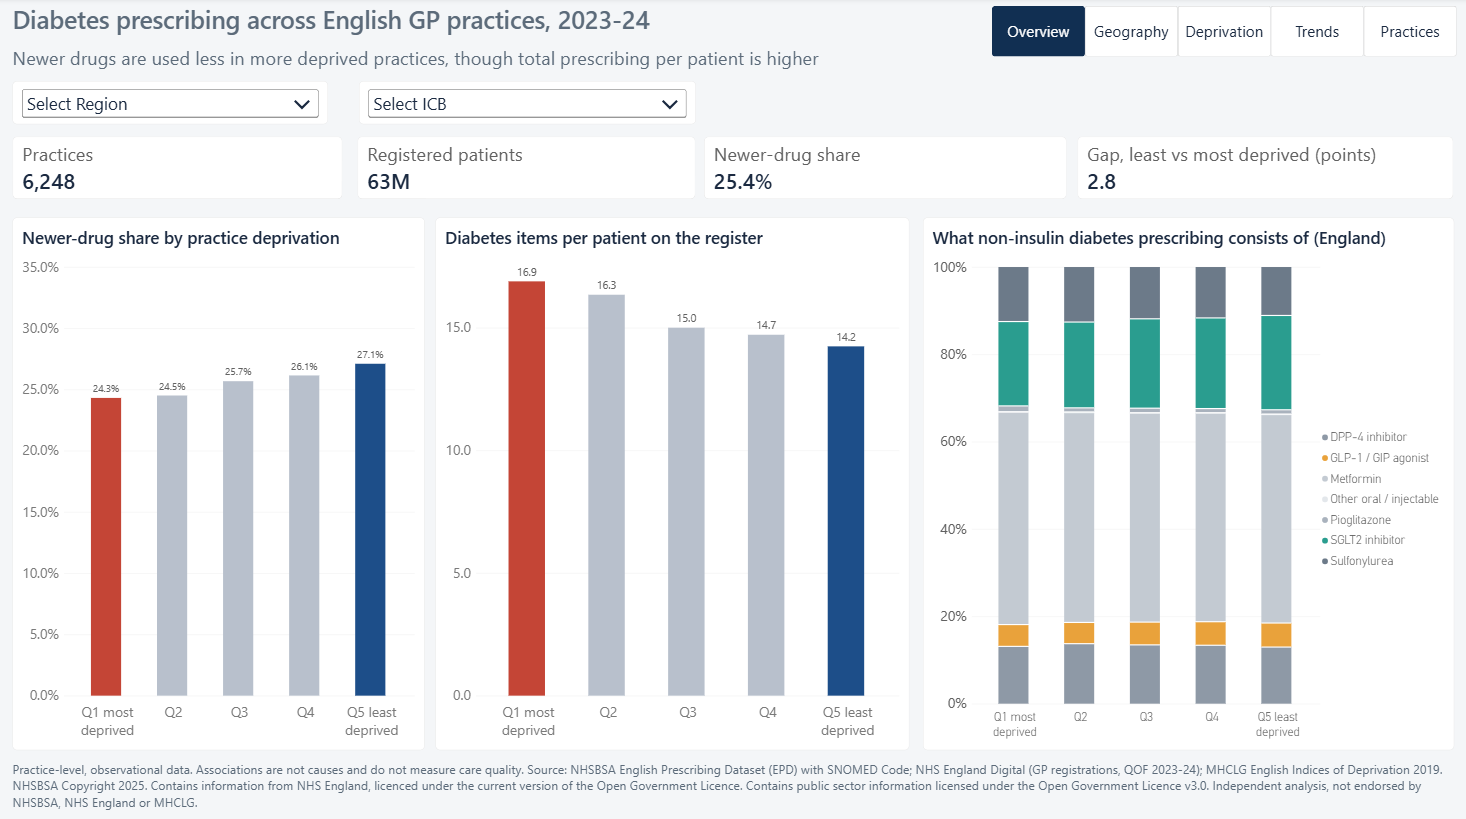

The page's visual inventory and layout, read from the dashboard file:
{"tool":"powerbi","page":{"name":"Overview","canvas":[2560,1440],"ordinal":0},"visuals":[{"type":"listSlicer","fields":{"Values":["dashboard_icb.region"]},"box":[23.3,145.5,549.8,75.6],"z":0},{"type":"listSlicer","fields":{"Values":["dashboard_icb.icb_short"]},"box":[628.4,145.5,587.6,75.6],"z":1000},{"type":"pageNavigator","box":[1731.2,15.7,813,88.9],"z":2000},{"type":"textbox","box":[23.3,11.6,1204.4,72.7],"z":3000},{"type":"textbox","box":[23.3,84.4,1509.8,61.1],"z":4000},{"type":"textbox","box":[23.3,1332.4,2519.3,87.3],"z":5000},{"type":"cardVisual","fields":{"Data":["_Measures.Patients"]},"box":[624.1,244.5,589.6,109.3],"z":6000},{"type":"cardVisual","fields":{"Data":["_Measures.Newer Share"]},"box":[1228.1,244.5,632.8,109.3],"z":7000},{"type":"cardVisual","fields":{"Data":["_Measures.Deprivation Gap (pp)"]},"box":[1881.1,244.5,655.8,109.3],"z":8000},{"type":"cardVisual","fields":{"Data":["_Measures.Practices"]},"box":[23,244.5,575.2,109.3],"z":9000},{"type":"clusteredColumnChart","title":"Newer-drug share by practice deprivation","fields":{"Category":["dashboard_practice.imd_group"],"Y":["_Measures.Newer Share"]},"box":[23.3,384,718.4,928.9],"z":10000},{"type":"clusteredColumnChart","title":"Diabetes items per patient on the register","fields":{"Category":["dashboard_practice.imd_group"],"Y":["_Measures.Items per Register Patient"]},"box":[762.2,384,826.3,928.9],"z":11000},{"type":"hundredPercentStackedColumnChart","title":"What non-insulin diabetes prescribing consists of (England)","fields":{"Category":["dashboard_class.imd_group"],"Series":["dashboard_class.drug_class"],"Y":["Sum(dashboard_class.items)"]},"box":[1611.6,384,926.3,928.9],"z":12000}]}

Visuals, with their boxes in screenshot pixels (x1, y1, x2, y2), scaled from the page's 2560x1440 canvas onto the 1466x819 screenshot:
listSlicer - dashboard_icb.region: <box>13,83,328,126</box>
listSlicer - dashboard_icb.icb_short: <box>360,83,696,126</box>
pageNavigator: <box>991,9,1457,59</box>
textbox: <box>13,7,703,48</box>
textbox: <box>13,48,878,83</box>
textbox: <box>13,758,1456,807</box>
cardVisual - _Measures.Patients: <box>357,139,695,201</box>
cardVisual - _Measures.Newer Share: <box>703,139,1066,201</box>
cardVisual - _Measures.Deprivation Gap (pp): <box>1077,139,1453,201</box>
cardVisual - _Measures.Practices: <box>13,139,343,201</box>
"Newer-drug share by practice deprivation" clusteredColumnChart: <box>13,218,425,747</box>
"Diabetes items per patient on the register" clusteredColumnChart: <box>436,218,910,747</box>
"What non-insulin diabetes prescribing consists of (England)" hundredPercentStackedColumnChart: <box>923,218,1453,747</box>
